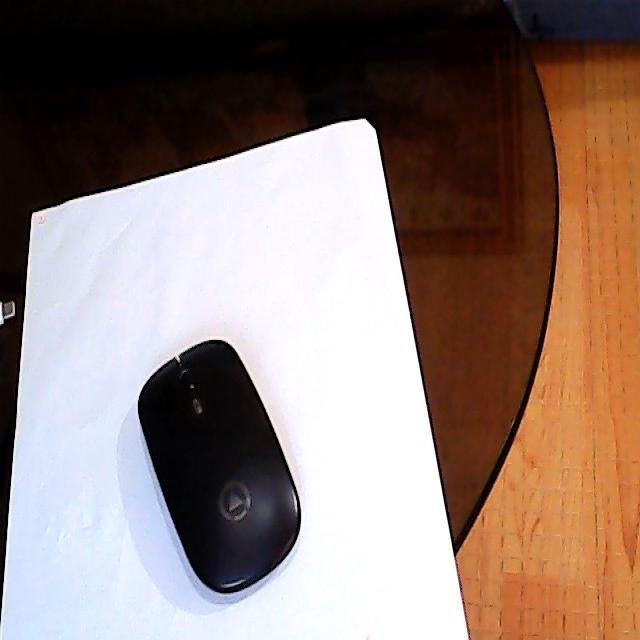-keyboard-: (138, 334, 304, 596)
